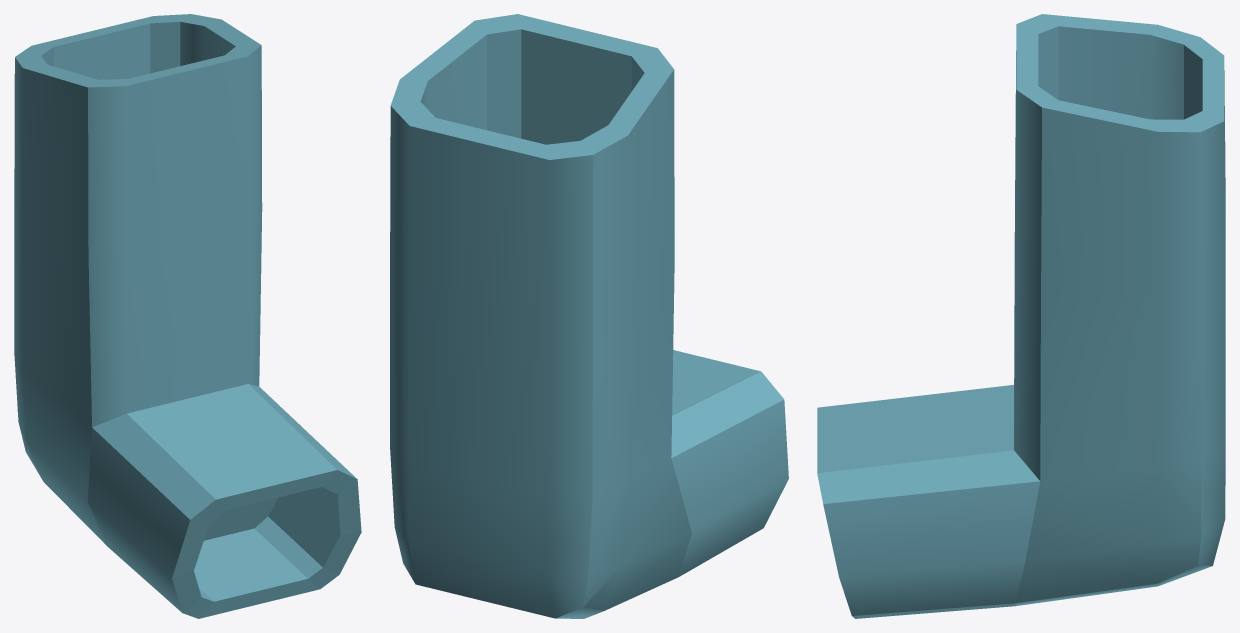
Rendered from inhaler1.fbx.
3 renders of one model, left to right at view 1: azimuth 30°, elevation 25°; view 2: azimuth 150°, elevation 25°; view 3: azimuth 270°, elevation 25°, orthographic. The views are drawn at different scales.
Parts seen in each view (by area): view 1: pCube1; view 2: pCube1; view 3: pCube1.
Boxes of the visible parts, box(x1,y1,x2,y2) form: pCube1: box(14, 14, 361, 618); pCube1: box(390, 14, 788, 618); pCube1: box(817, 14, 1225, 618).
Bounding box in the file's own units: 4.28 × 9.86 × 6.9.
